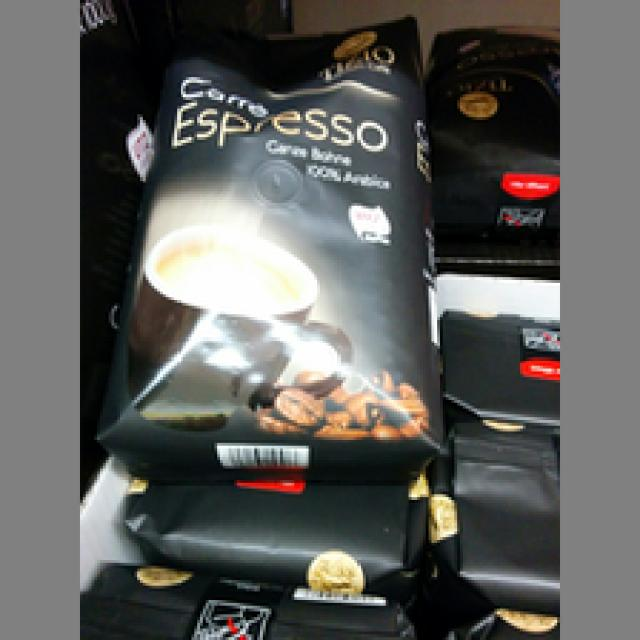groceries: (103, 8, 446, 486)
